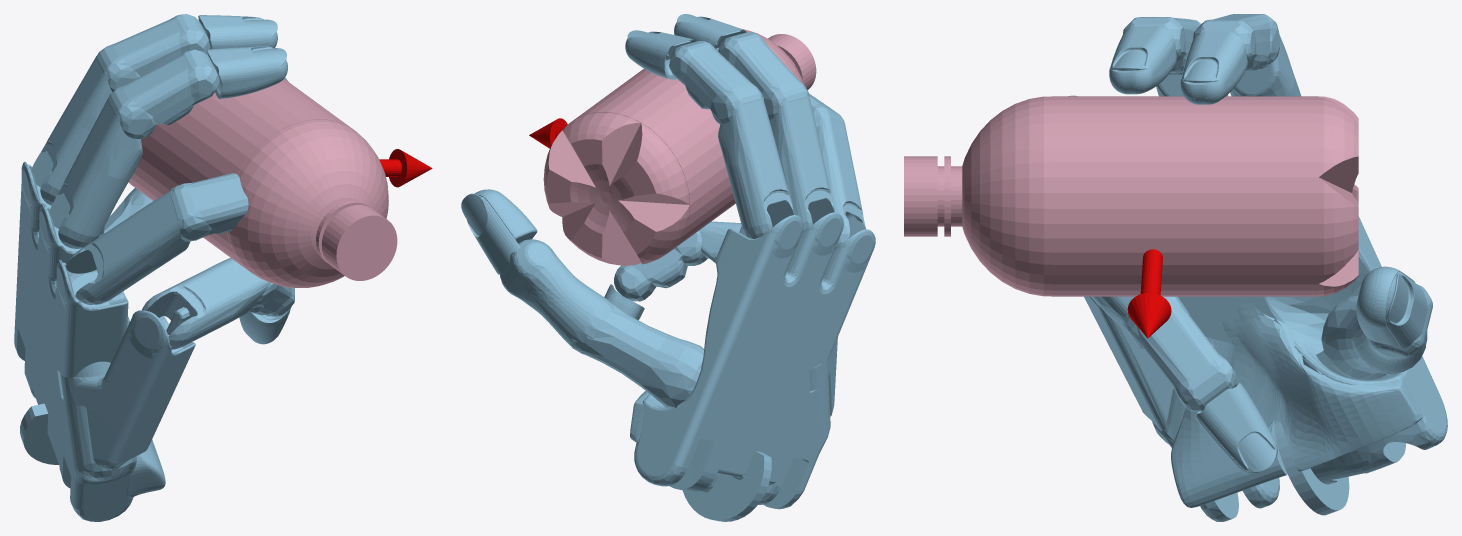
3 renders of one model, left to right at view 1: azimuth 30°, elevation 25°; view 2: azimuth 150°, elevation 25°; view 3: azimuth 270°, elevation 25°, orthographic. The views are drawn at different scales.
Parts seen in each view (by area): view 1: world, water_bottle.stl; view 2: world, water_bottle.stl; view 3: water_bottle.stl, world.
Boxes of the visible parts, <box> form: world: <box>14,14,432,521</box>; water_bottle.stl: <box>128,79,397,287</box>; world: <box>461,14,875,521</box>; water_bottle.stl: <box>543,28,816,265</box>; water_bottle.stl: <box>904,96,1358,296</box>; world: <box>1068,14,1447,521</box>.
Size of the model in its own units: 0.1461 by 0.181 by 0.1632.
